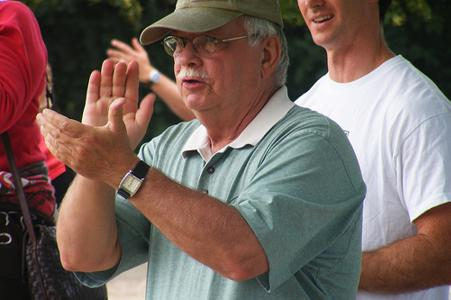person: (39, 2, 368, 300)
